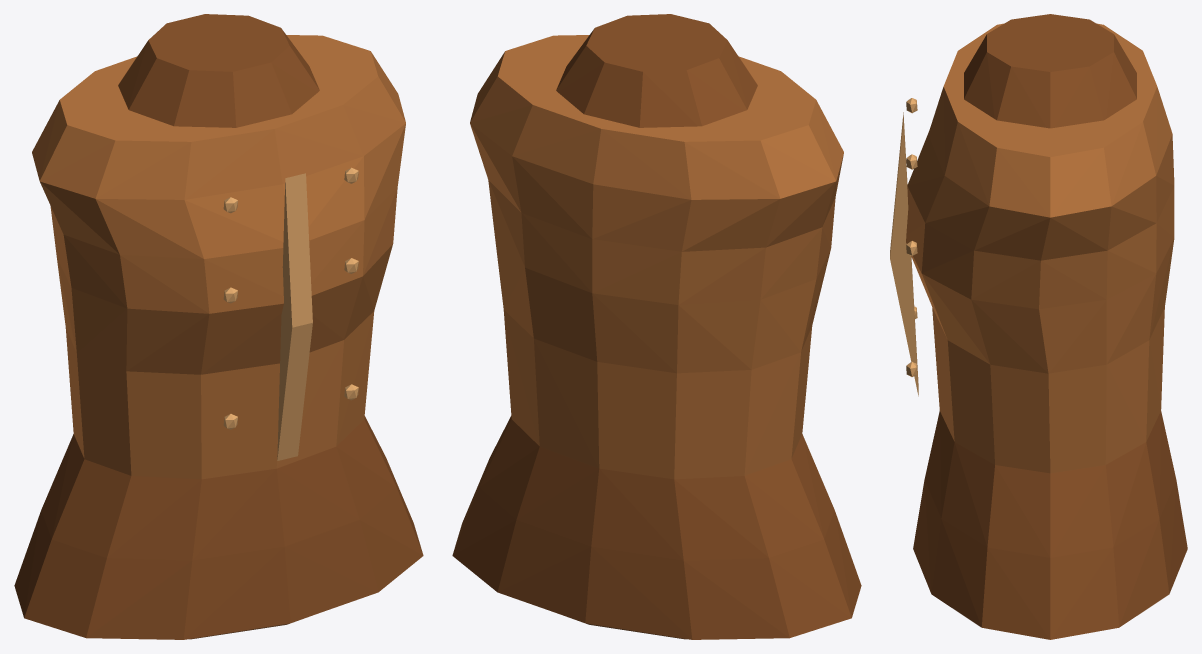
Rendered from gear_bronze_body_torso_f.glb.
The picture shows the model from 3 angles, left to right: view 1: azimuth 30°, elevation 25°; view 2: azimuth 150°, elevation 25°; view 3: azimuth 270°, elevation 25°; orthographic projection. The views are drawn at different scales.
Visible parts, largest first — view 1: gear_bronze_body_torso_f; view 2: gear_bronze_body_torso_f; view 3: gear_bronze_body_torso_f.
Part boxes in pixels (bbox=[...]): gear_bronze_body_torso_f: bbox=[14, 14, 423, 639]; gear_bronze_body_torso_f: bbox=[452, 14, 861, 639]; gear_bronze_body_torso_f: bbox=[890, 14, 1187, 639].
Bounding box in the file's own units: 0.452 × 0.59 × 0.312.
